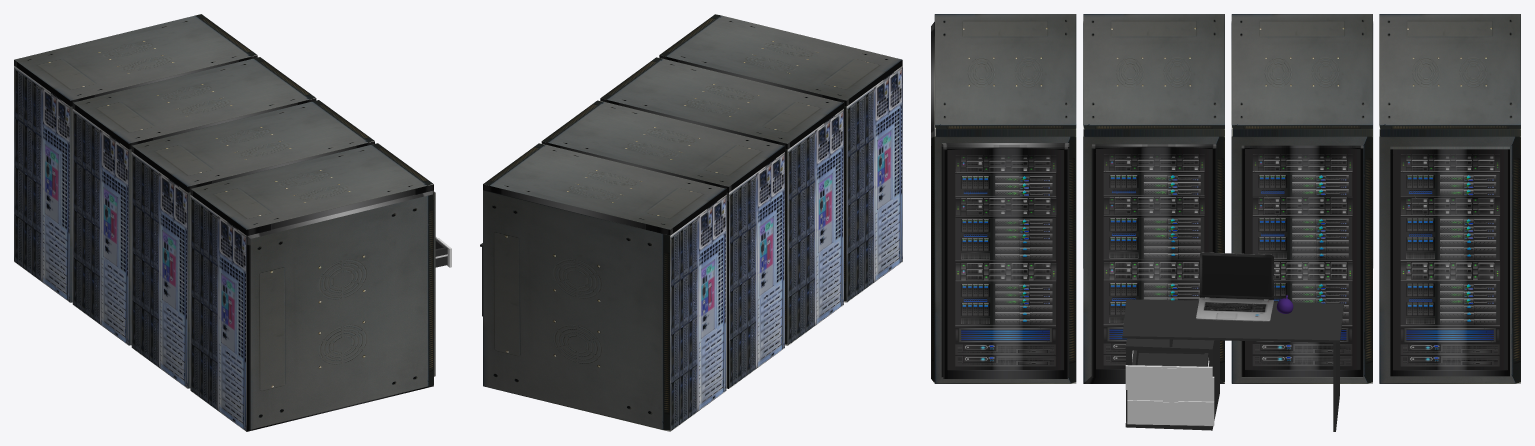
File: laptop.gltf
The picture shows the model from 3 angles, left to right: view 1: azimuth 30°, elevation 25°; view 2: azimuth 150°, elevation 25°; view 3: azimuth 270°, elevation 25°; orthographic projection. The views are drawn at different scales.
Visible parts, largest first — view 1: server, Объект_Куб.7; view 2: server; view 3: server, Объект_Куб.1, Lowpoly_Notebook_Cube.001, Объект_Куб.7, Объект_Куб.2, Булев.1, Объект_Куб.3, Объект_Куб.4.
Boxes of the visible parts, <box> form: server: <box>14,14,435,431</box>; Объект_Куб.7: <box>435,236,451,267</box>; server: <box>483,14,902,431</box>; server: <box>931,14,1520,383</box>; Объект_Куб.1: <box>1122,299,1343,342</box>; Lowpoly_Notebook_Cube.001: <box>1196,252,1273,321</box>; Объект_Куб.7: <box>1125,350,1212,391</box>; Объект_Куб.2: <box>1127,400,1214,425</box>; Булев.1: <box>1125,338,1219,430</box>; Объект_Куб.3: <box>1127,376,1214,401</box>; Объект_Куб.4: <box>1333,342,1339,431</box>.
Size of the model in its own units: 6.33 by 4.35 by 9.05.
Materials: 10 (6 with a texture image).
